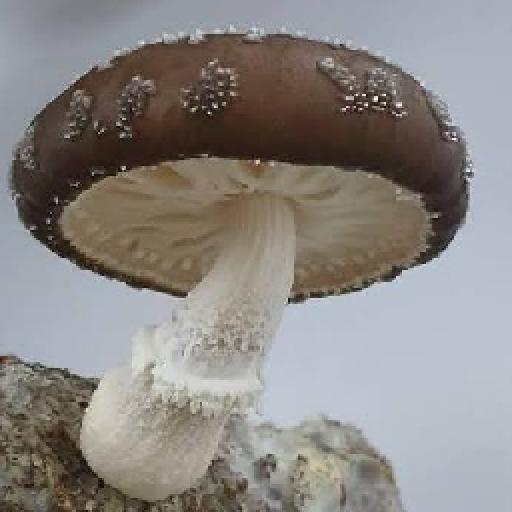mushrooms: (12, 31, 472, 496)
trees: (2, 353, 406, 512)
